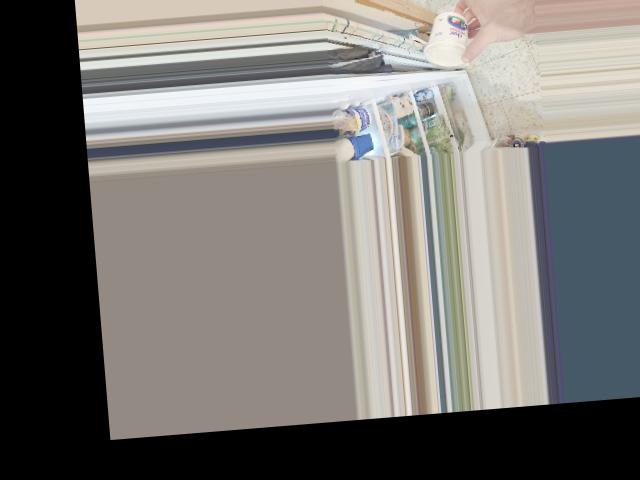cotage: (419, 7, 479, 71)
